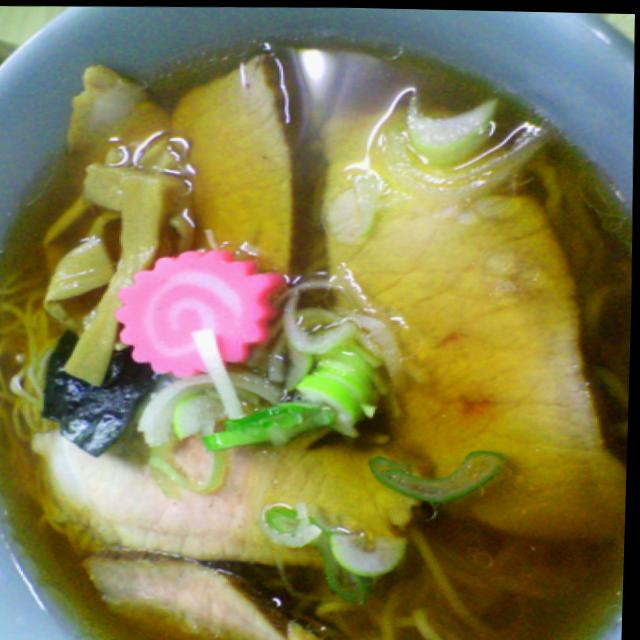面条主食: (0, 29, 639, 640)
